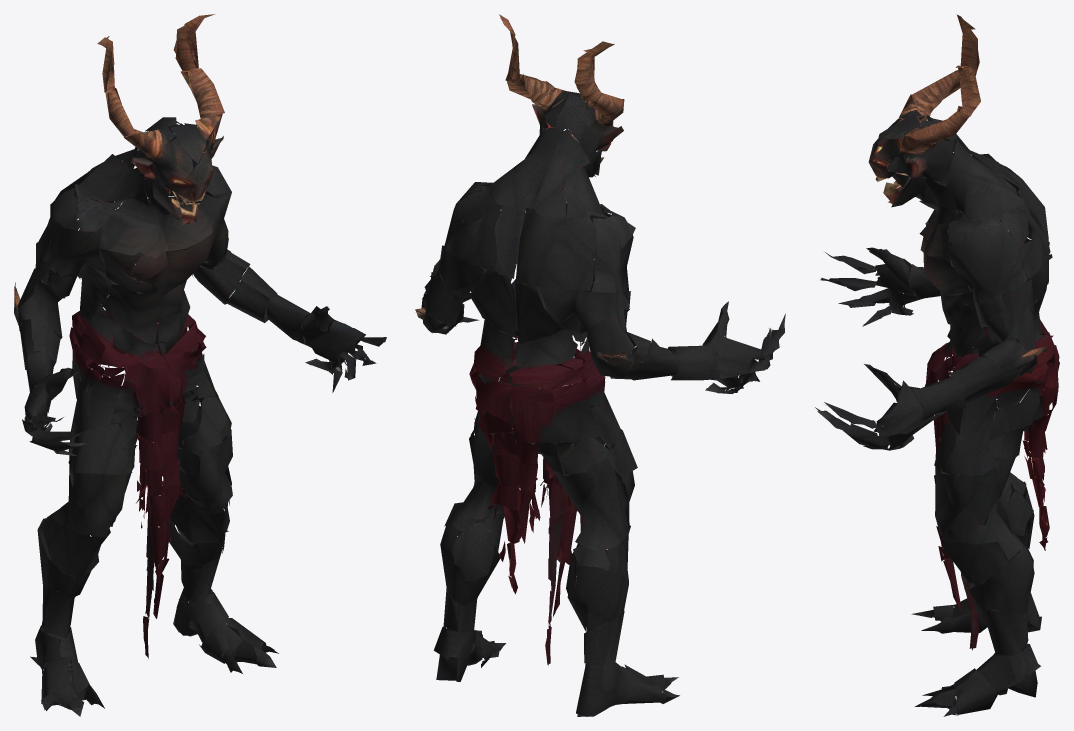
Rendered from imp.glb.
3 renders of one model, left to right at view 1: azimuth 30°, elevation 25°; view 2: azimuth 150°, elevation 25°; view 3: azimuth 270°, elevation 25°, orthographic. The views are drawn at different scales.
Parts seen in each view (by area): view 1: Mesh_0; view 2: Mesh_0; view 3: Mesh_0.
Part boxes in pixels (box(x1,y1,x2,y2)): Mesh_0: box(14, 14, 386, 716); Mesh_0: box(415, 14, 785, 716); Mesh_0: box(815, 14, 1059, 716).
Bounding box in the file's own units: 1.05 × 1.91 × 0.6754.
1 material, 1 textured.
